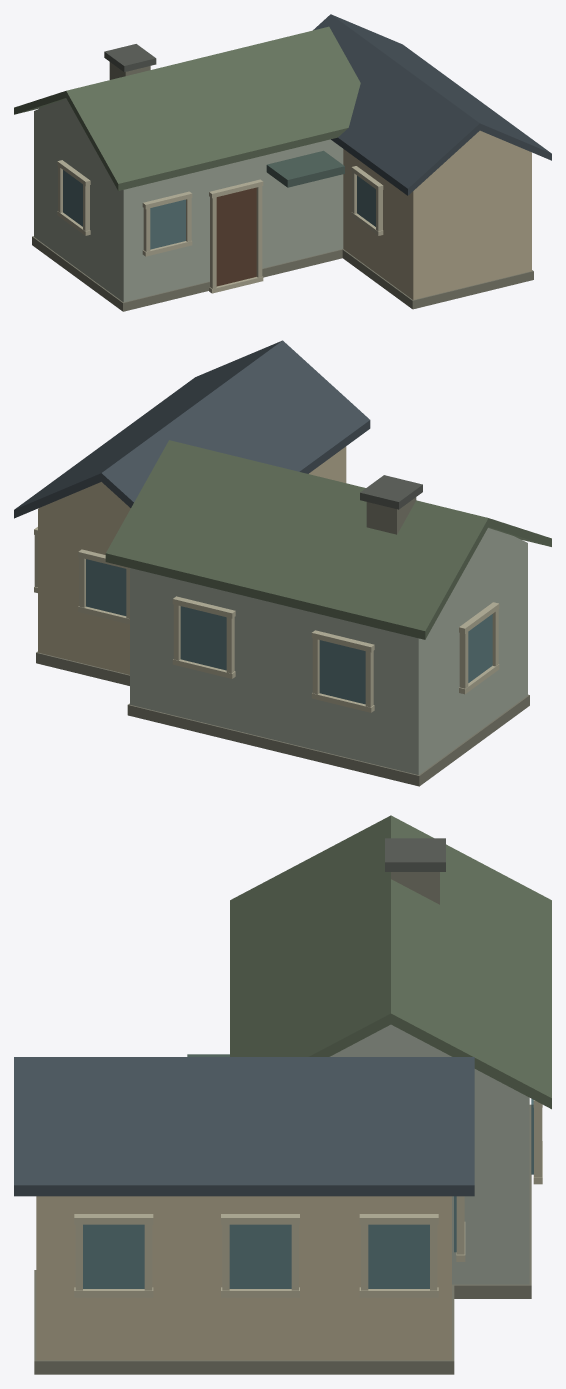
The model's file is Building_Settlement_CourtyardDwelling_001_LOD1.glb.
3 renders of one model, top to bottom at view 1: azimuth 30°, elevation 25°; view 2: azimuth 150°, elevation 25°; view 3: azimuth 270°, elevation 25°, orthographic. The views are drawn at different scales.
Visible parts, largest first — view 1: Building_Settlement_CourtyardDwelling_001_LOD1; view 2: Building_Settlement_CourtyardDwelling_001_LOD1; view 3: Building_Settlement_CourtyardDwelling_001_LOD1.
Boxes of the visible parts, x1,y1,x2,y2 form: Building_Settlement_CourtyardDwelling_001_LOD1: [14, 14, 551, 311]; Building_Settlement_CourtyardDwelling_001_LOD1: [14, 340, 551, 786]; Building_Settlement_CourtyardDwelling_001_LOD1: [14, 815, 551, 1374].
Bounding box in the file's own units: 7.95 × 4.24 × 6.6.
